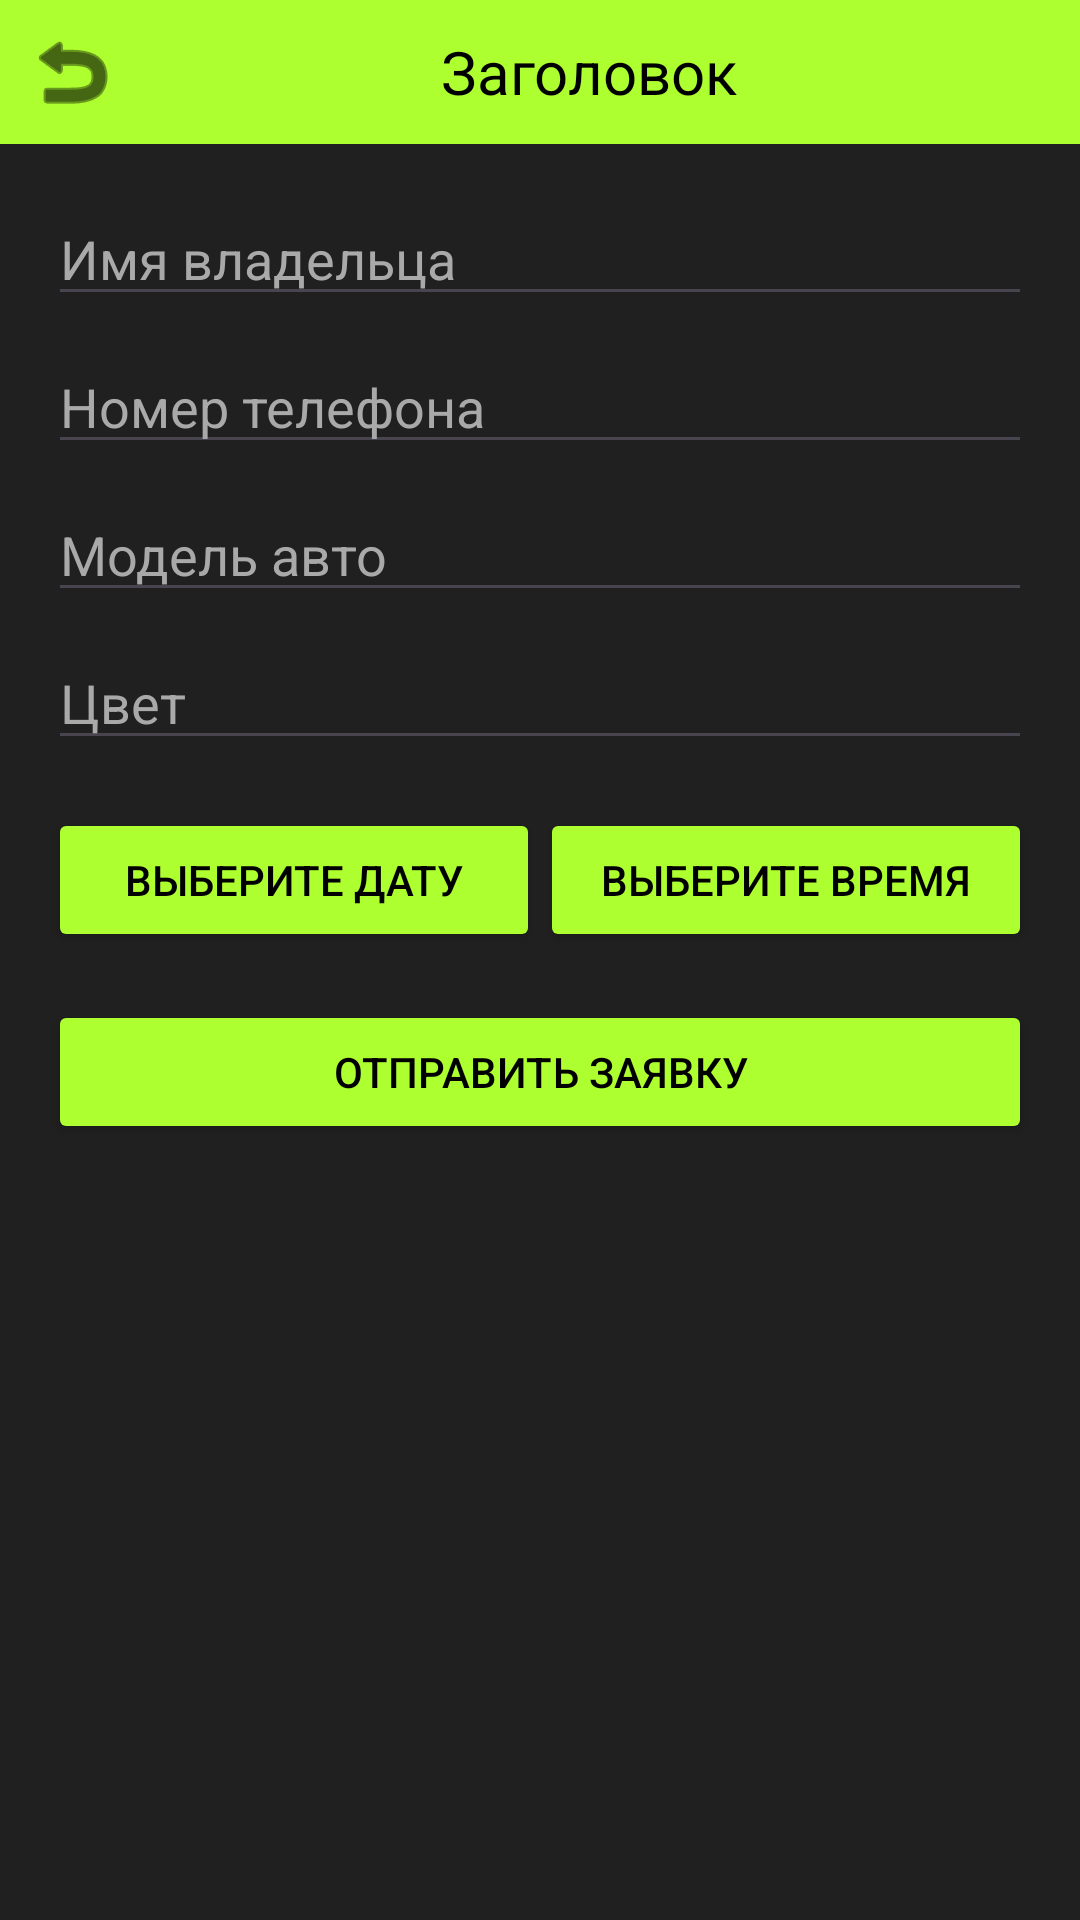

Named icons in this screenshot (1080 x 1920) and their centers, (x=x, y=y):
Назад: (x=73, y=72)
